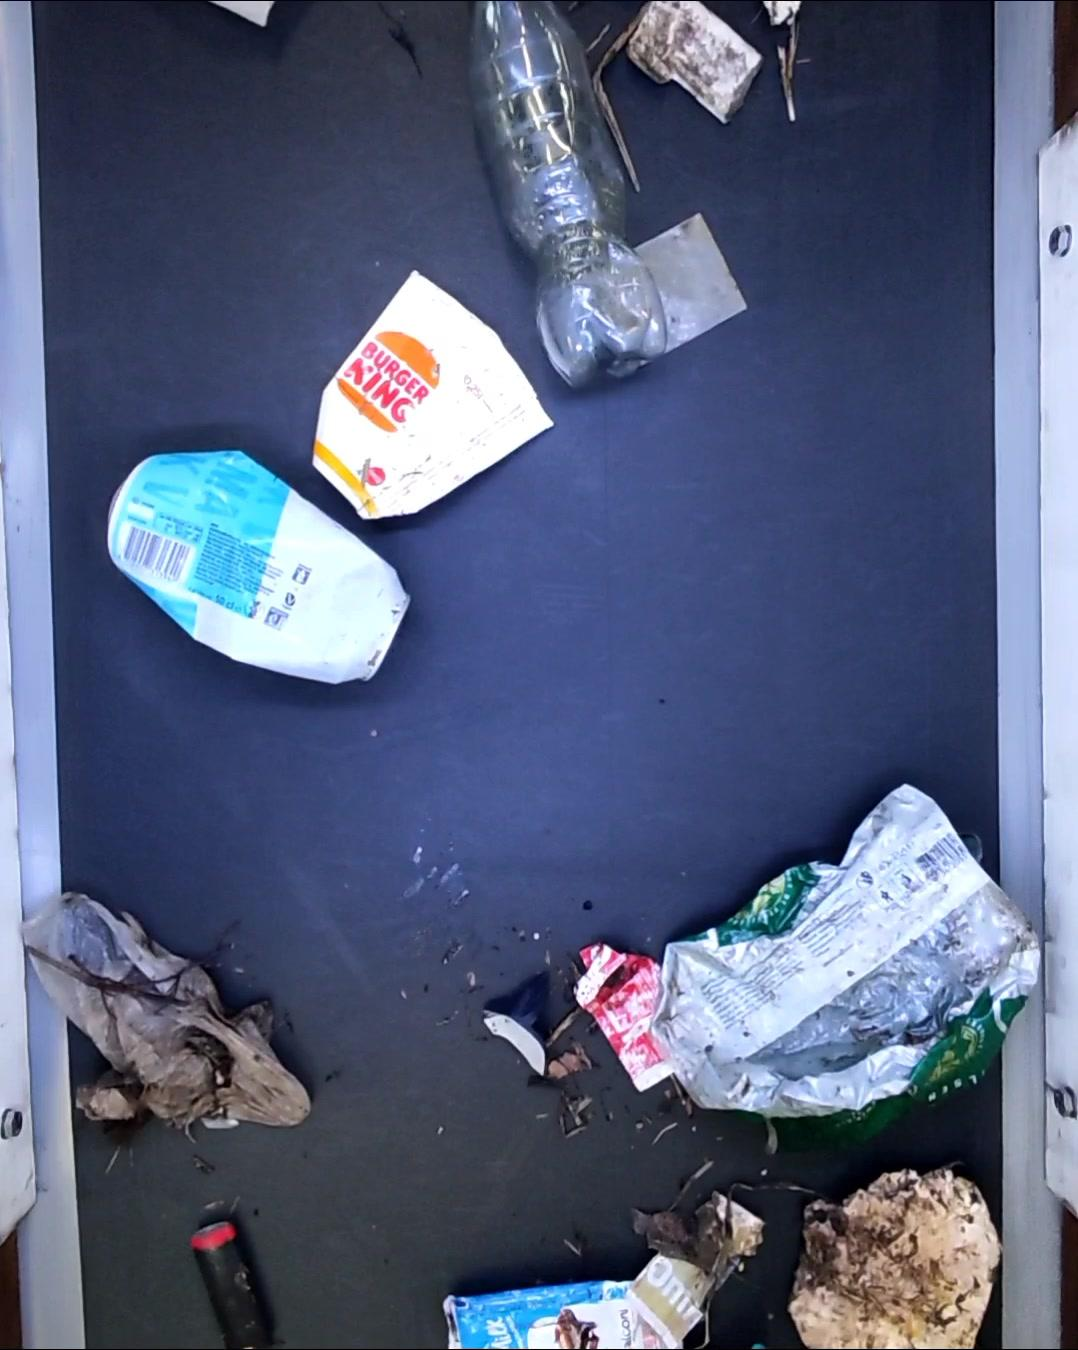Drankblikjes: (111, 444, 416, 685)
Drankflessen - 1-2 liter: (461, 0, 662, 380)
Plastic folies of stukken daarvan 2.5- 50 cm: (28, 892, 317, 1142), (608, 216, 751, 356)
Snoep snack en chips verpakkingen: (576, 942, 690, 1097), (437, 1278, 679, 1350)
